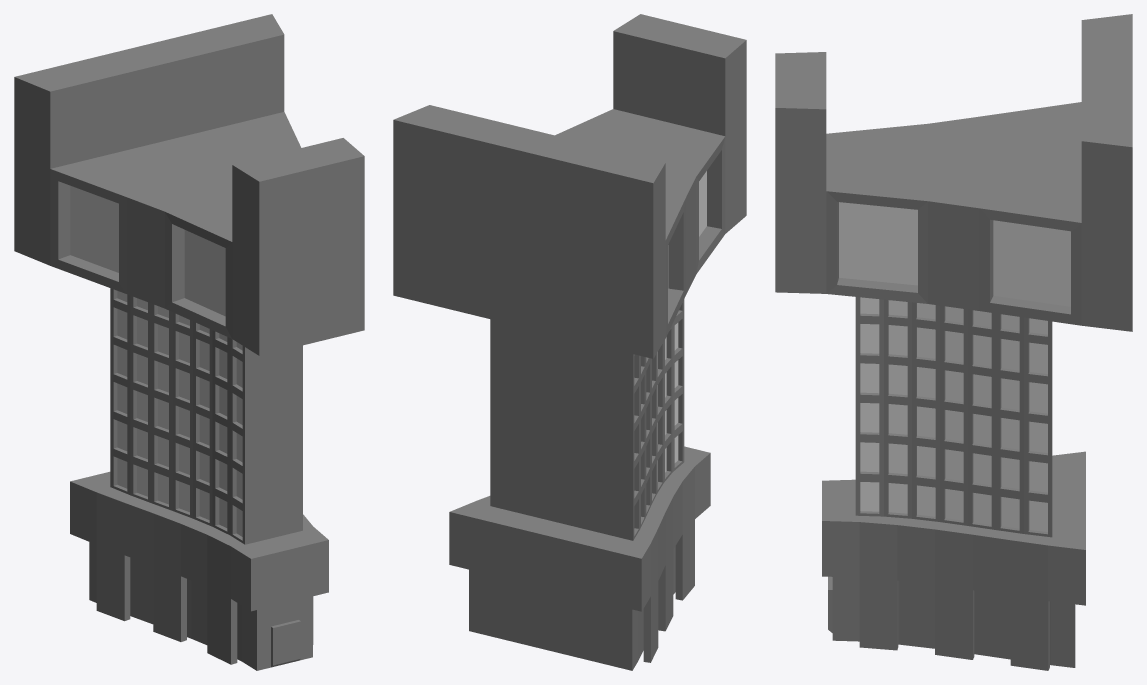
Rendered from House_34.fbx.
The picture shows the model from 3 angles, left to right: view 1: azimuth 30°, elevation 25°; view 2: azimuth 150°, elevation 25°; view 3: azimuth 270°, elevation 25°; orthographic projection. The views are drawn at different scales.
Visible parts, largest first — view 1: House_34_Body; view 2: House_34_Body; view 3: House_34_Body.
Boxes of the visible parts, x1,y1,x2,y2 form: House_34_Body: [14, 14, 364, 670]; House_34_Body: [393, 14, 746, 670]; House_34_Body: [775, 14, 1132, 670].
Size of the model in its own units: 1776 by 3389 by 2013.
